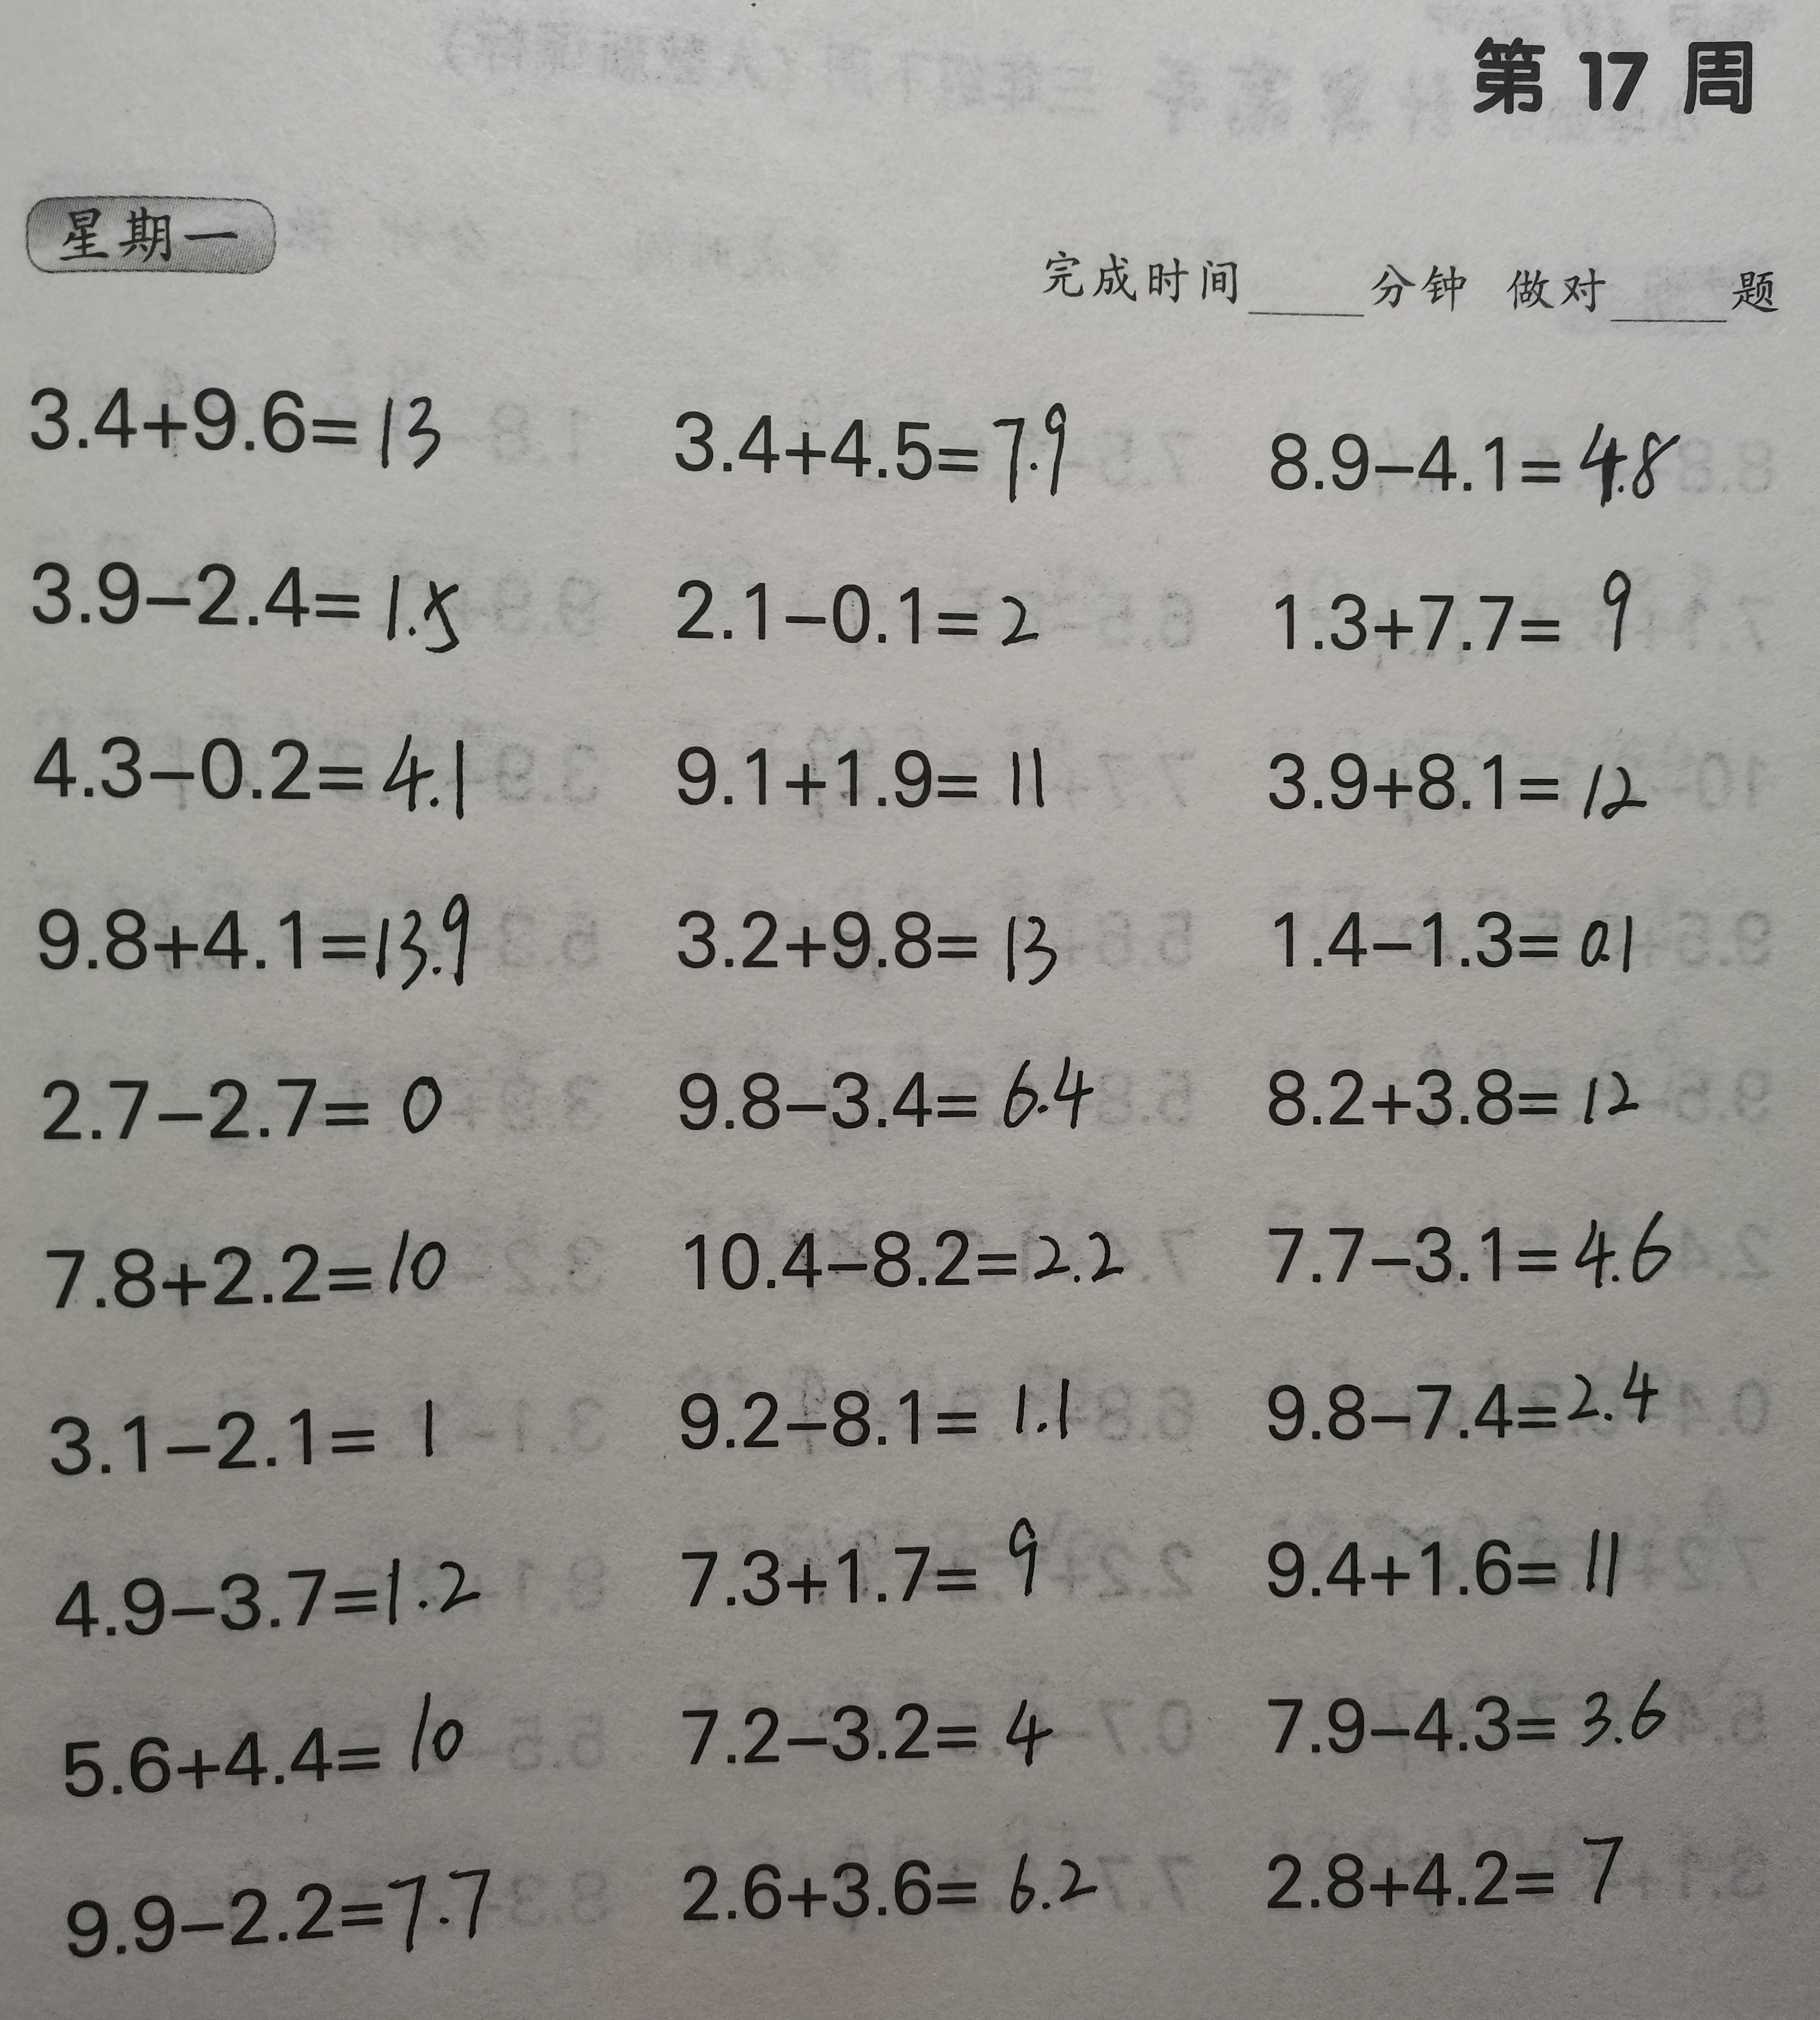equation: (645, 360, 1100, 518), (18, 871, 490, 1010), (21, 534, 488, 669), (51, 1846, 509, 1983), (37, 1674, 490, 1811), (1261, 392, 1688, 534), (16, 708, 481, 838), (655, 1194, 1138, 1310), (659, 1344, 1103, 1468), (659, 706, 1079, 834), (654, 1040, 1114, 1156), (673, 1823, 1114, 1943), (669, 1497, 1058, 1630), (648, 871, 1075, 992), (1258, 1660, 1715, 1772), (1258, 1187, 1701, 1302), (1247, 1493, 1658, 1616), (11, 362, 457, 473), (30, 1212, 467, 1323), (1258, 882, 1669, 999), (1261, 559, 1669, 676), (32, 1384, 469, 1493), (40, 1540, 495, 1644), (1261, 724, 1674, 838), (1251, 1038, 1674, 1149), (1247, 1345, 1690, 1451), (657, 550, 1075, 659), (1233, 1820, 1641, 1930), (32, 1049, 466, 1152), (673, 1670, 1068, 1772)
